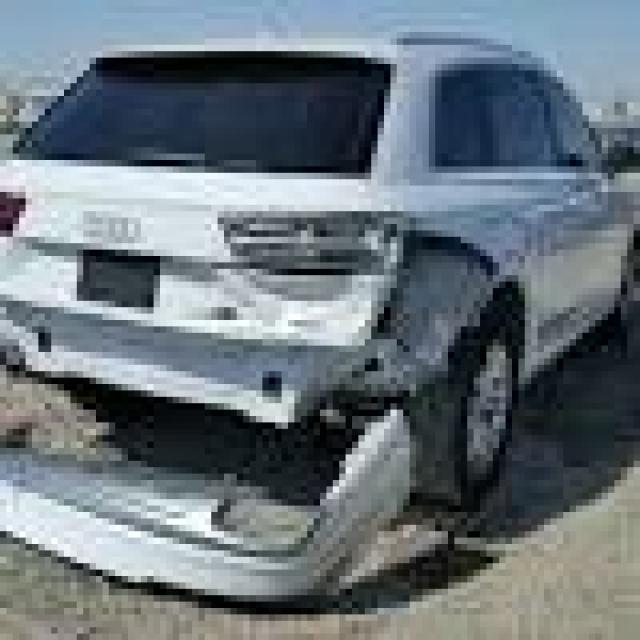moderate: (0, 175, 599, 623)
